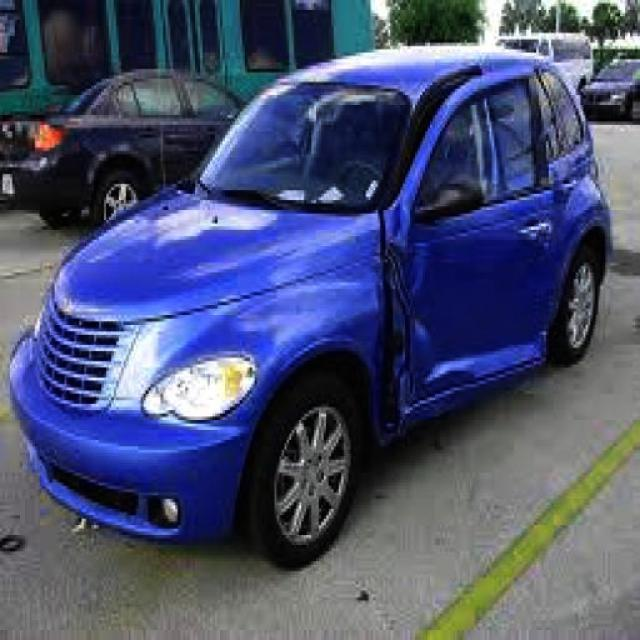car damage: (375, 199, 527, 442)
